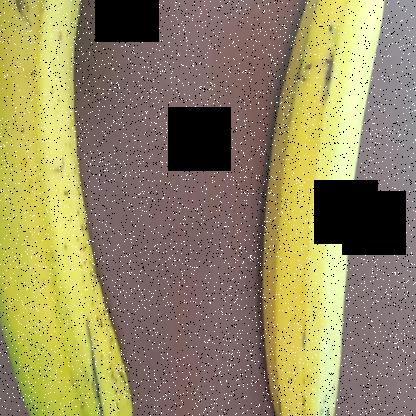freshripe: (241, 0, 396, 415)
ripe: (0, 0, 154, 415)
